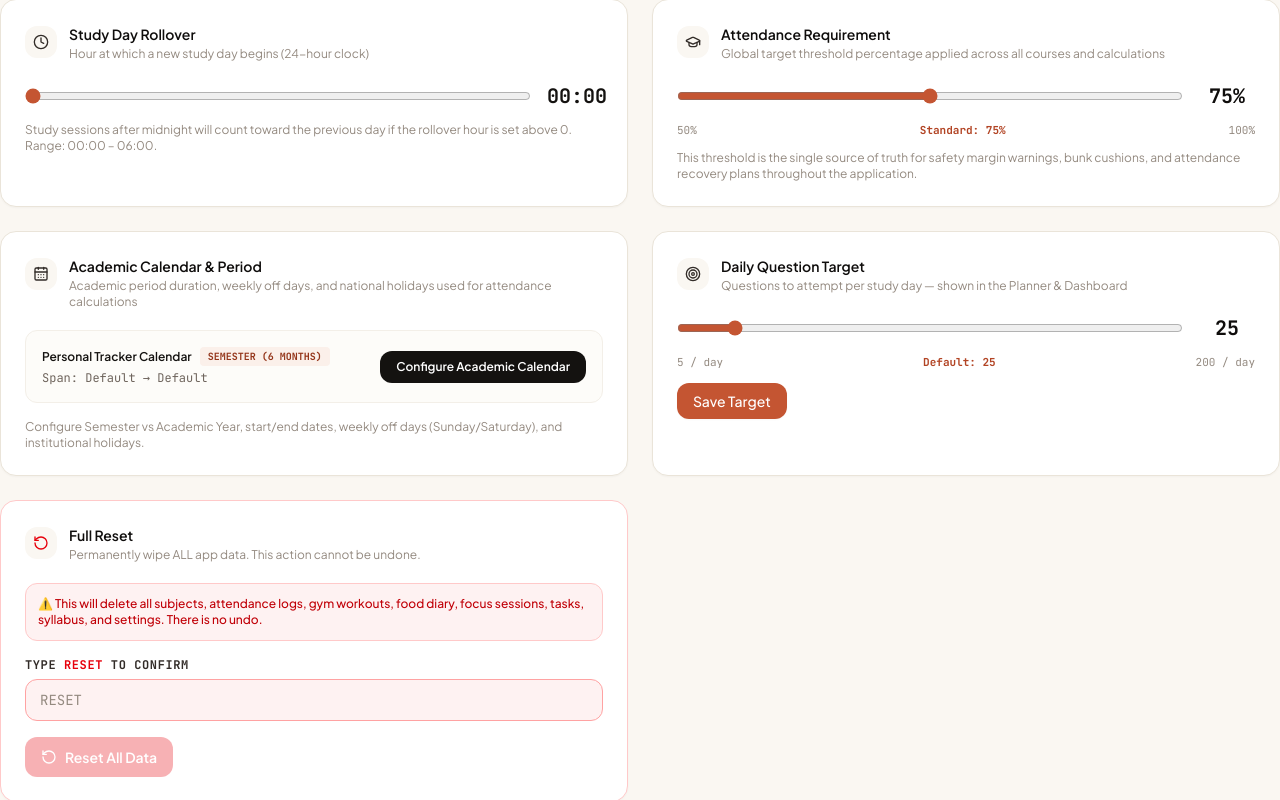
Test: Milestone 8: Focus Radio, Calendar Export & Remaining Settings › Remaining Settings & Full Reset Flow › updates daily question target and saves
The width and height of the screenshot is (1280, 800).
(page scrolled)
Click the button "Save Target": (732, 400) [677, 382, 787, 418]
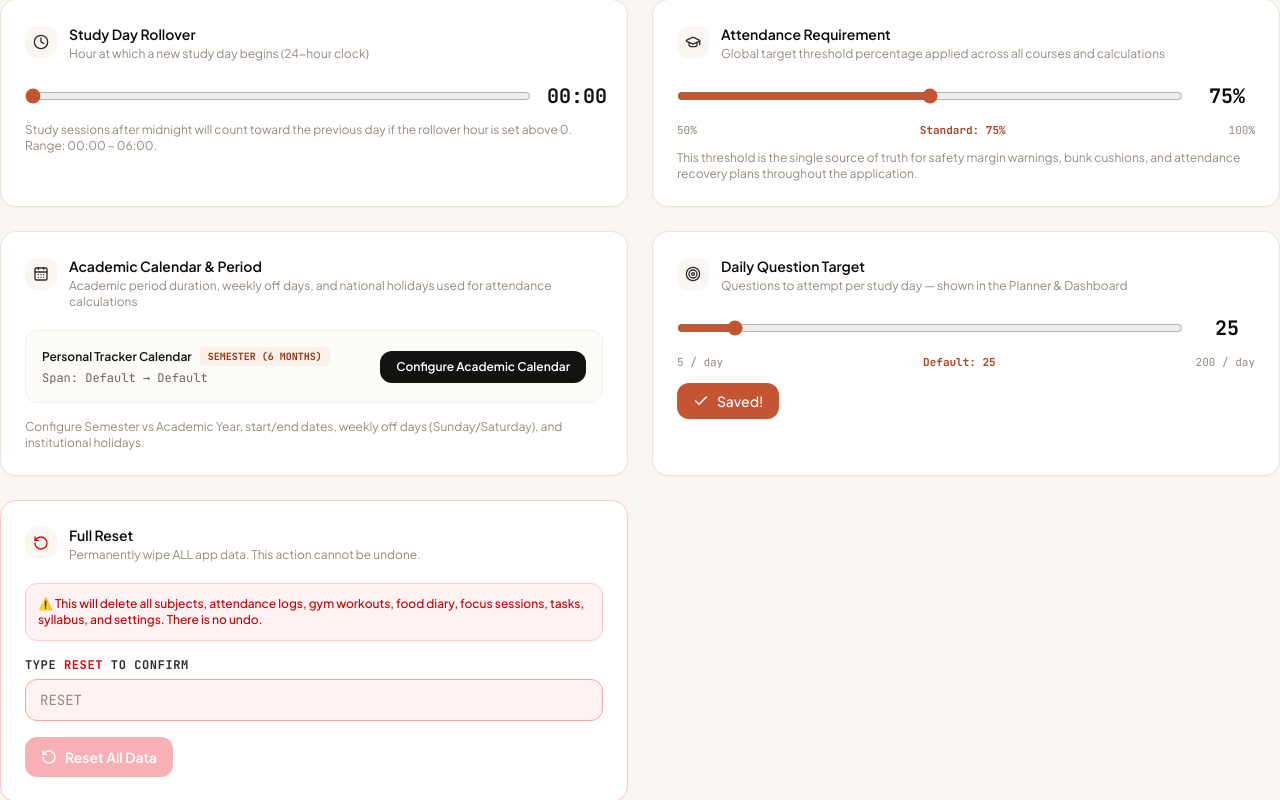
Now the button "Saved!" is shown, box [677, 382, 779, 418]
